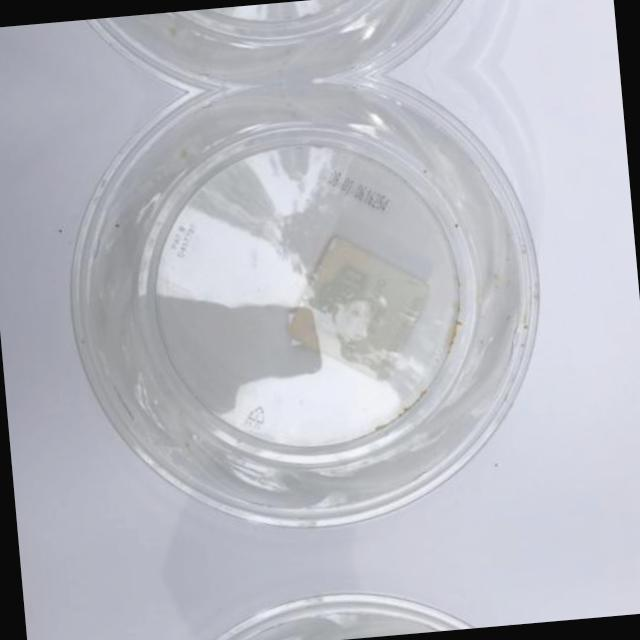Plastic: (40, 61, 580, 562), (33, 0, 540, 102), (84, 557, 589, 640)
